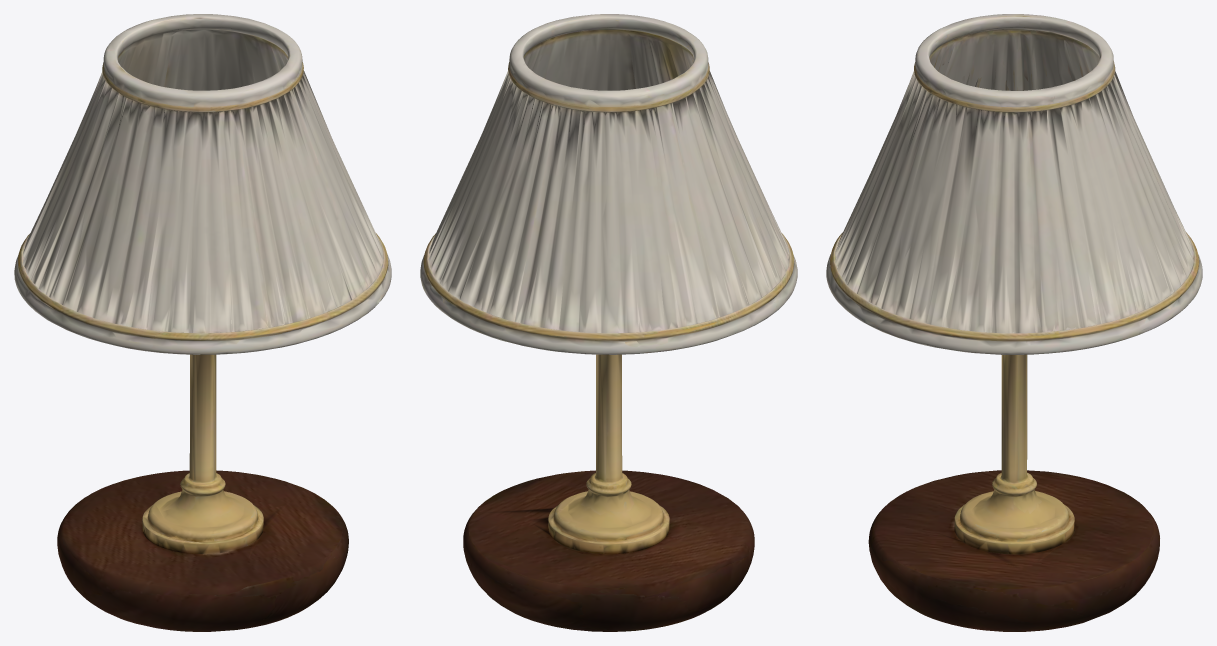
3 renders of one model, left to right at view 1: azimuth 30°, elevation 25°; view 2: azimuth 150°, elevation 25°; view 3: azimuth 270°, elevation 25°, orthographic.
Visible parts, largest first — view 1: node_0; view 2: node_0; view 3: node_0.
Part boxes in pixels (box(x1,y1,x2,y2)): node_0: box(14, 14, 391, 631); node_0: box(420, 14, 797, 631); node_0: box(826, 14, 1202, 631).
Bounding box in the file's own units: 0.7181 × 1.11 × 0.7165.
1 material, 1 textured.
